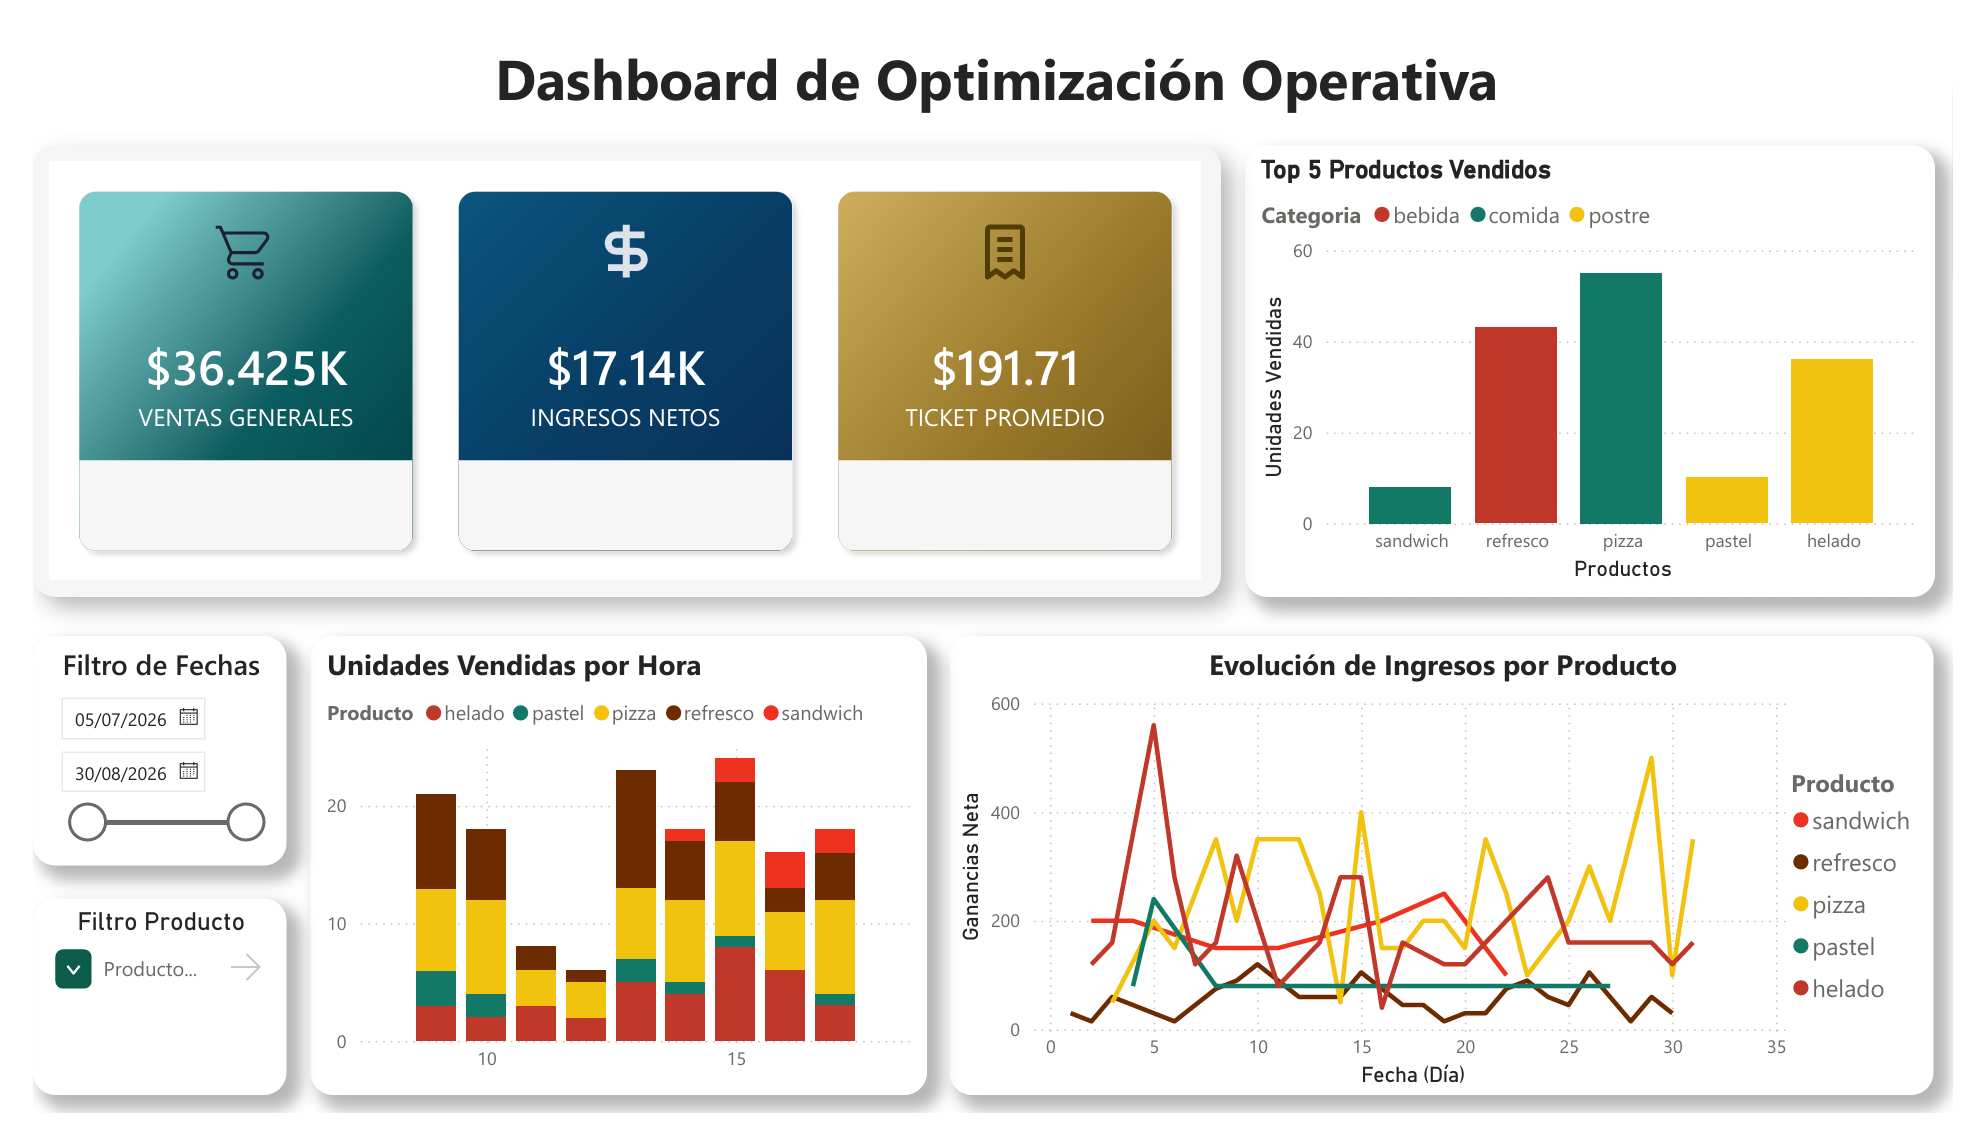

The dashboard page shown, as its layout file describes it:
{"tool":"powerbi","page":{"name":"Dashboard","canvas":[1280,720],"ordinal":0},"visuals":[{"type":"columnChart","title":"Top 5 Productos Vendidos","fields":{"Y":["CountNonNull(dataset.cantidad)"],"Category":["dataset.producto"],"Series":["dataset.categoria"]},"box":[807.7,75.2,460,300.9],"z":0},{"type":"lineChart","title":"Evolución de Ingresos por Producto","fields":{"Category":["dataset.fecha.Variation.Jerarquía de fechas.Día"],"Series":["dataset.producto"],"Y":["Sum(dataset.ganancia_neta)"]},"box":[611.1,402.3,655.7,305.6],"z":1000},{"type":"columnChart","title":"Unidades Vendidas por Hora","fields":{"Category":["dataset.Franja_Horaria"],"Y":["CountNonNull(dataset.cantidad)"],"Series":["dataset.producto"]},"box":[185,402,410.6,305.8],"z":2000},{"type":"cardVisual","fields":{"Data":["dataset.Total Sales","dataset.Net Profit","dataset.Average Ticket"]},"box":[0,75.1,791.9,300.5],"z":3000},{"type":"textbox","box":[203,0,879.2,61],"z":4000},{"type":"textSlicer","title":"Filtro Producto","fields":{"Values":["dataset.producto"]},"box":[0,577.1,168.9,130.7],"z":6000},{"type":"slicer","title":"Filtro de Fechas","fields":{"Values":["dataset.fecha"]},"box":[0,402,168.9,152.9],"z":6001}]}

Visuals, with their boxes in screenshot pixels (x1, y1, x2, y2), scaled from the page's 1280x720 canvas onto the 1987x1145 screenshot:
"Top 5 Productos Vendidos" columnChart: bbox=[1254, 120, 1968, 598]
"Evolución de Ingresos por Producto" lineChart: bbox=[949, 640, 1967, 1126]
"Unidades Vendidas por Hora" columnChart: bbox=[287, 639, 925, 1126]
cardVisual - dataset.Total Sales x dataset.Net Profit: bbox=[0, 119, 1229, 597]
textbox: bbox=[315, 0, 1680, 97]
"Filtro Producto" textSlicer: bbox=[0, 918, 262, 1126]
"Filtro de Fechas" slicer: bbox=[0, 639, 262, 882]
